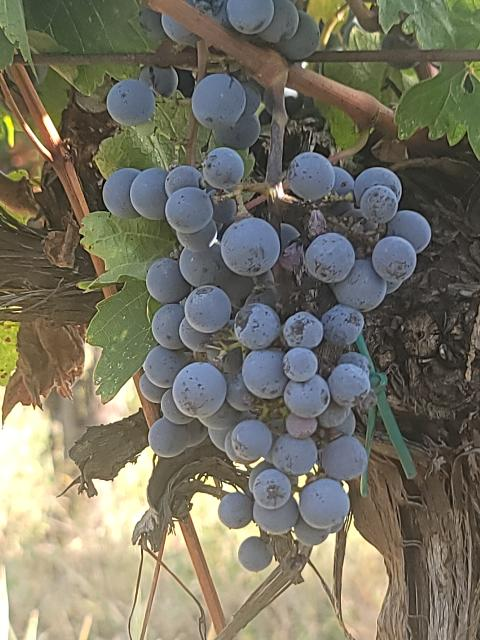grapes: (102, 149, 430, 539)
